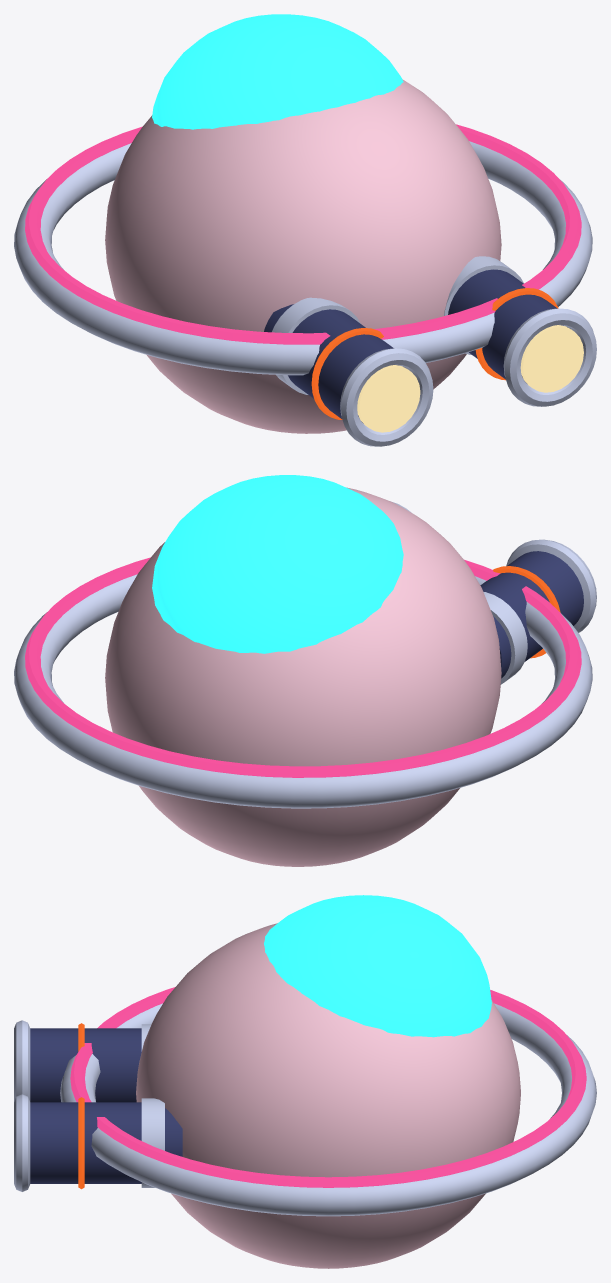
The model's file is bubble.glb.
3 renders of one model, top to bottom at view 1: azimuth 30°, elevation 25°; view 2: azimuth 150°, elevation 25°; view 3: azimuth 270°, elevation 25°, orthographic. The views are drawn at different scales.
Visible parts, largest first — view 1: Sphere, Torus.011, Sphere.001, Torus.012, Cylinder, Cylinder.003, Torus.013, Torus.015, Cylinder.002, Cylinder.005, Cylinder.001, Torus.014 (+2 smaller); view 2: Sphere, Sphere.001, Torus.011, Torus.012, Cylinder, Torus.013, Cylinder.001, Torus.014; view 3: Sphere, Sphere.001, Torus.011, Torus.012, Cylinder.003, Cylinder, Torus.015, Torus.013, Cylinder.004, Torus.016.
Part boxes in pixels (box(x1,y1,x2,y2)): Sphere: box(105, 79, 501, 433); Torus.011: box(14, 141, 592, 375); Sphere.001: box(152, 14, 403, 129); Torus.012: box(25, 124, 581, 344); Cylinder: box(264, 304, 404, 423); Cylinder.003: box(448, 269, 567, 383); Torus.013: box(340, 348, 433, 446); Torus.015: box(503, 308, 596, 406); Cylinder.002: box(357, 365, 420, 432); Cylinder.005: box(520, 325, 583, 392); Cylinder.001: box(272, 297, 360, 394); Torus.014: box(311, 328, 383, 419); Sphere: box(105, 487, 501, 866); Sphere.001: box(152, 475, 403, 653); Torus.011: box(14, 574, 592, 808); Torus.012: box(25, 557, 581, 777); Cylinder: box(480, 551, 583, 678); Torus.013: box(506, 539, 596, 632); Cylinder.001: box(483, 592, 527, 684); Torus.014: box(493, 566, 560, 658); Sphere: box(136, 923, 520, 1268); Sphere.001: box(264, 895, 491, 1037); Torus.011: box(60, 1003, 596, 1216); Torus.012: box(70, 987, 586, 1187); Cylinder.003: box(30, 1102, 182, 1183); Cylinder: box(30, 1028, 141, 1102); Torus.015: box(14, 1094, 30, 1191); Torus.013: box(14, 1020, 30, 1101); Cylinder.004: box(141, 1098, 164, 1187); Torus.016: box(78, 1097, 84, 1189).
Bounding box in the file's own units: 1.84 × 1.3 × 2.
